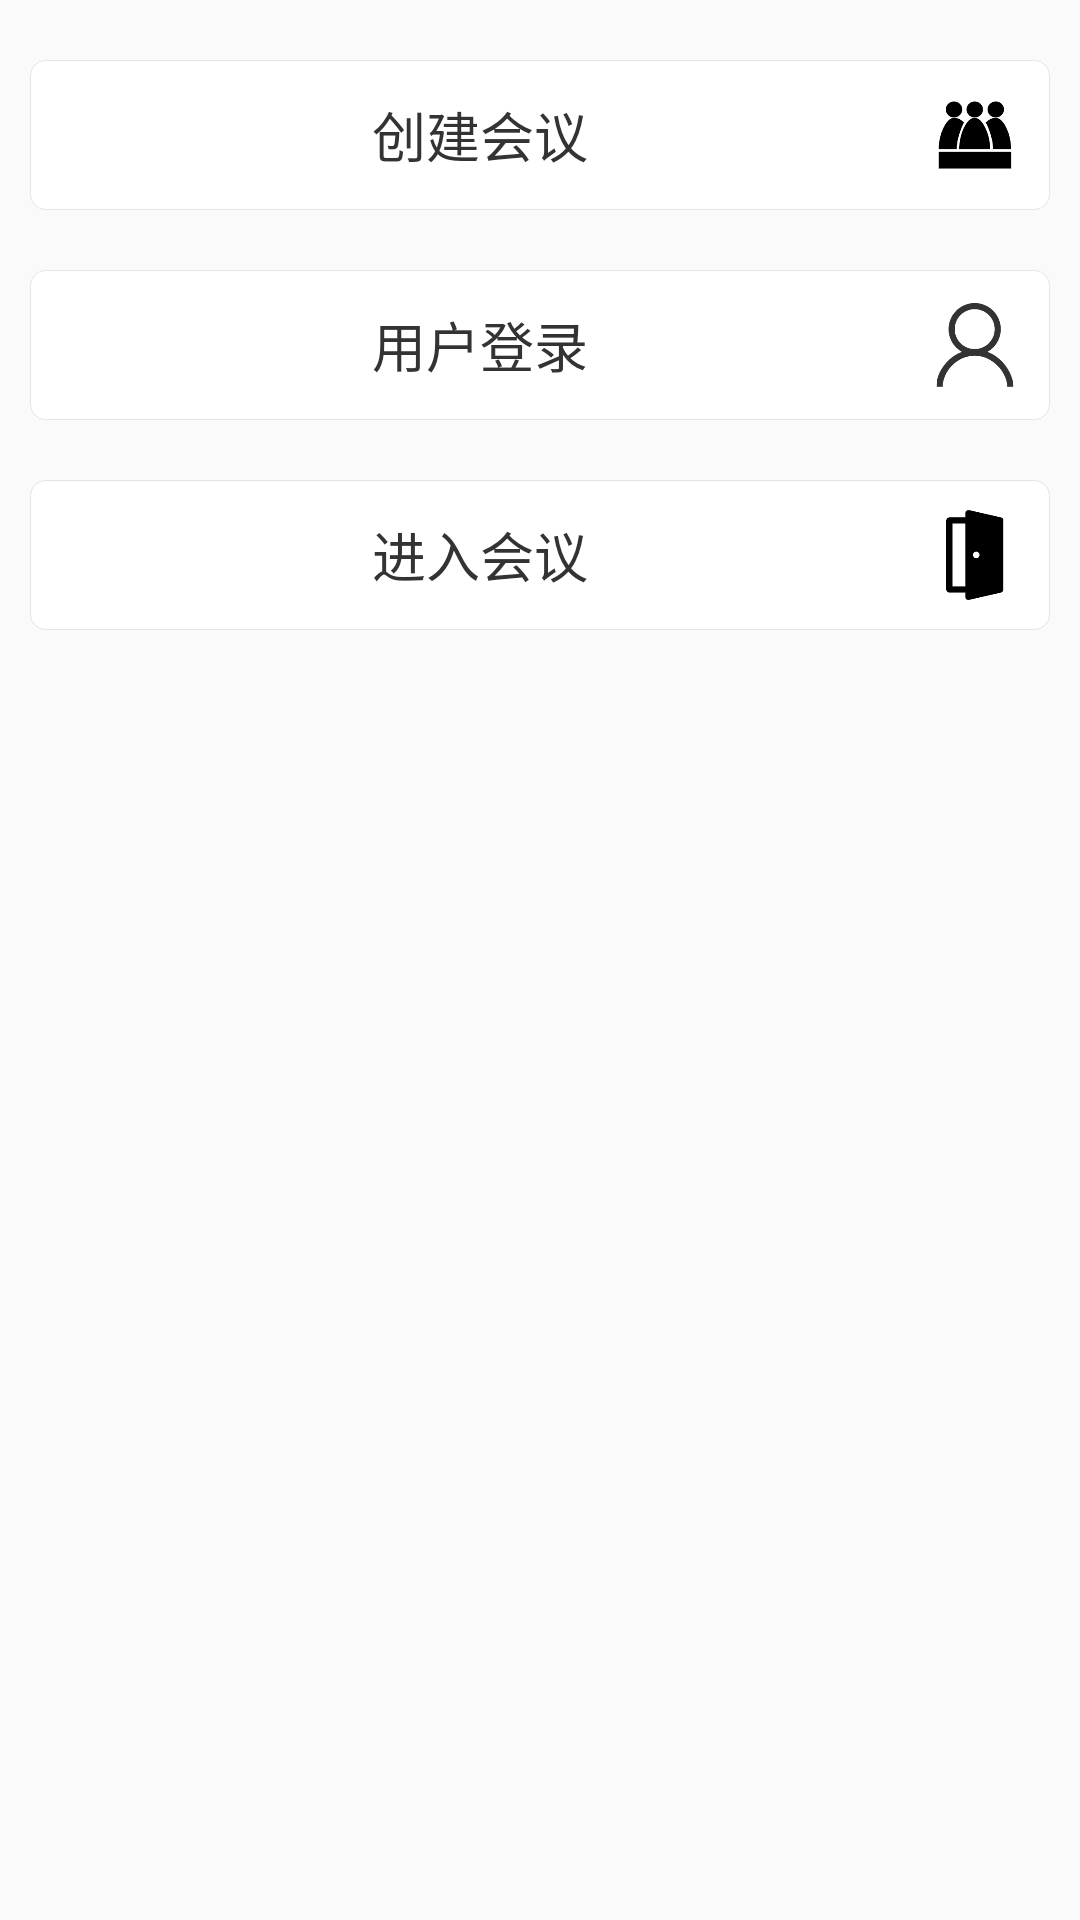

Where to tap for icons on this 1080px×1920px app screen, as point (x, y):
join: point (975, 555)
login: point (975, 345)
meeting: point (975, 135)
